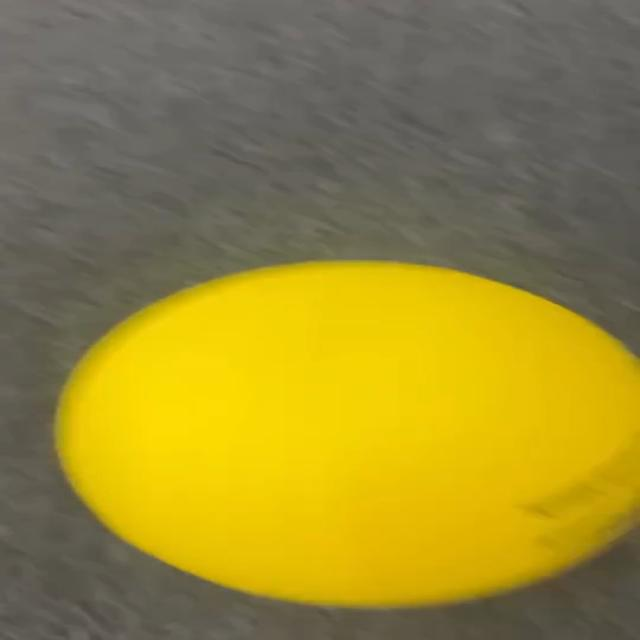Fuels: (56, 261, 640, 607)
